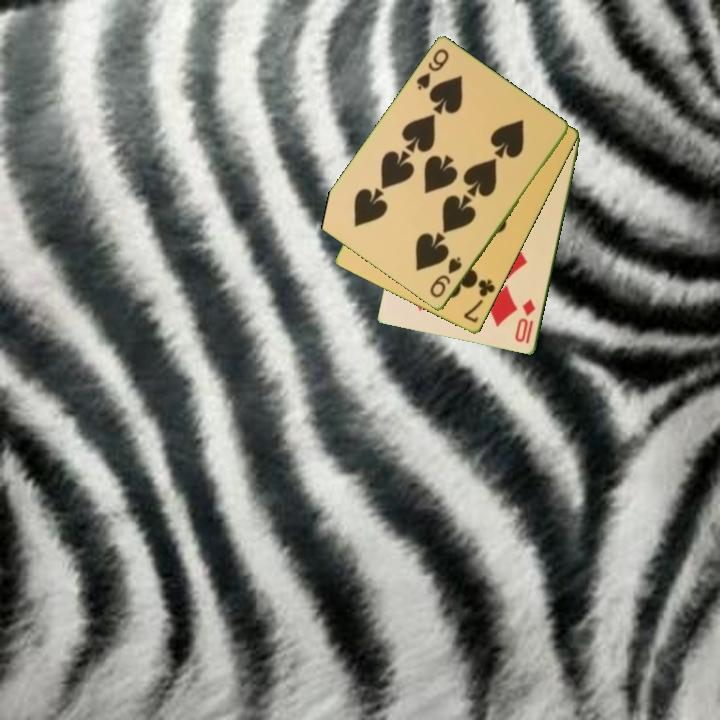10d: (511, 295, 538, 347)
7c: (460, 276, 498, 326)
9s: (413, 45, 452, 94), (426, 254, 465, 301)
